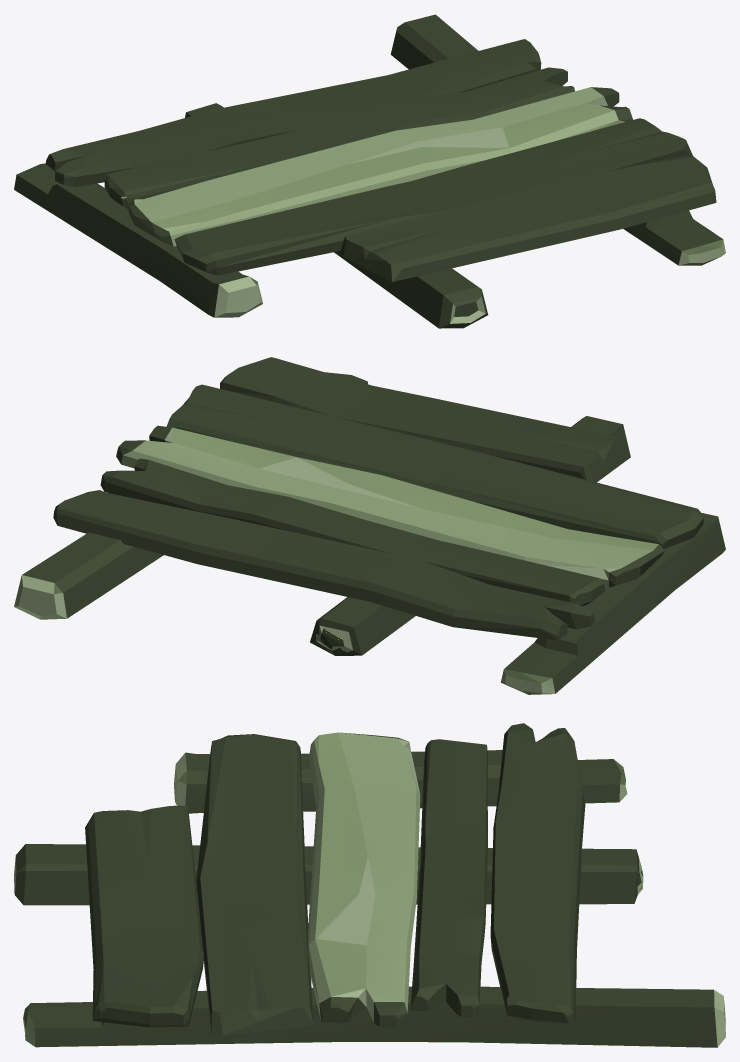
The model's file is EA_Planks_01a.glb.
3 views of the same model, one above another, from view 1: azimuth 30°, elevation 25°; view 2: azimuth 150°, elevation 25°; view 3: azimuth 270°, elevation 25° (orthographic). The views are drawn at different scales.
Visible parts, largest first — view 1: EA_Planks_01a; view 2: EA_Planks_01a; view 3: EA_Planks_01a.
Boxes of the visible parts, x1,y1,x2,y2 form: EA_Planks_01a: [14, 14, 725, 328]; EA_Planks_01a: [14, 357, 725, 694]; EA_Planks_01a: [14, 723, 725, 1047].
Bounding box in the file's own units: 1.94 × 0.1978 × 1.95.
1 material, 1 textured.
